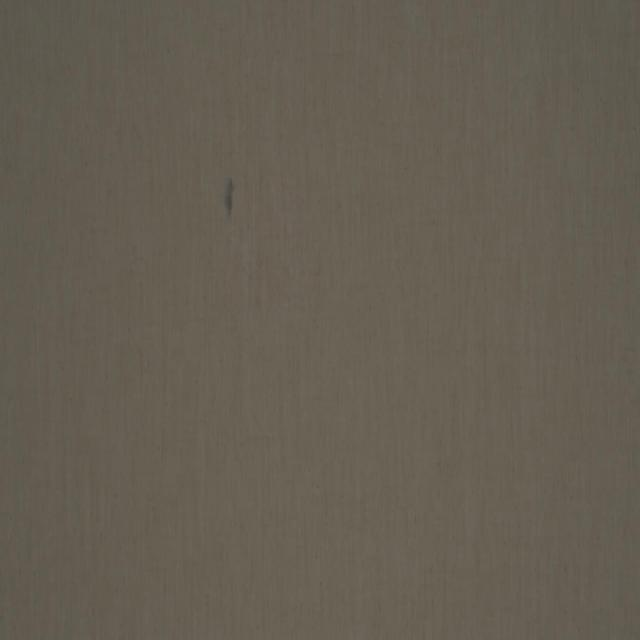dirty: (222, 178, 235, 217)
